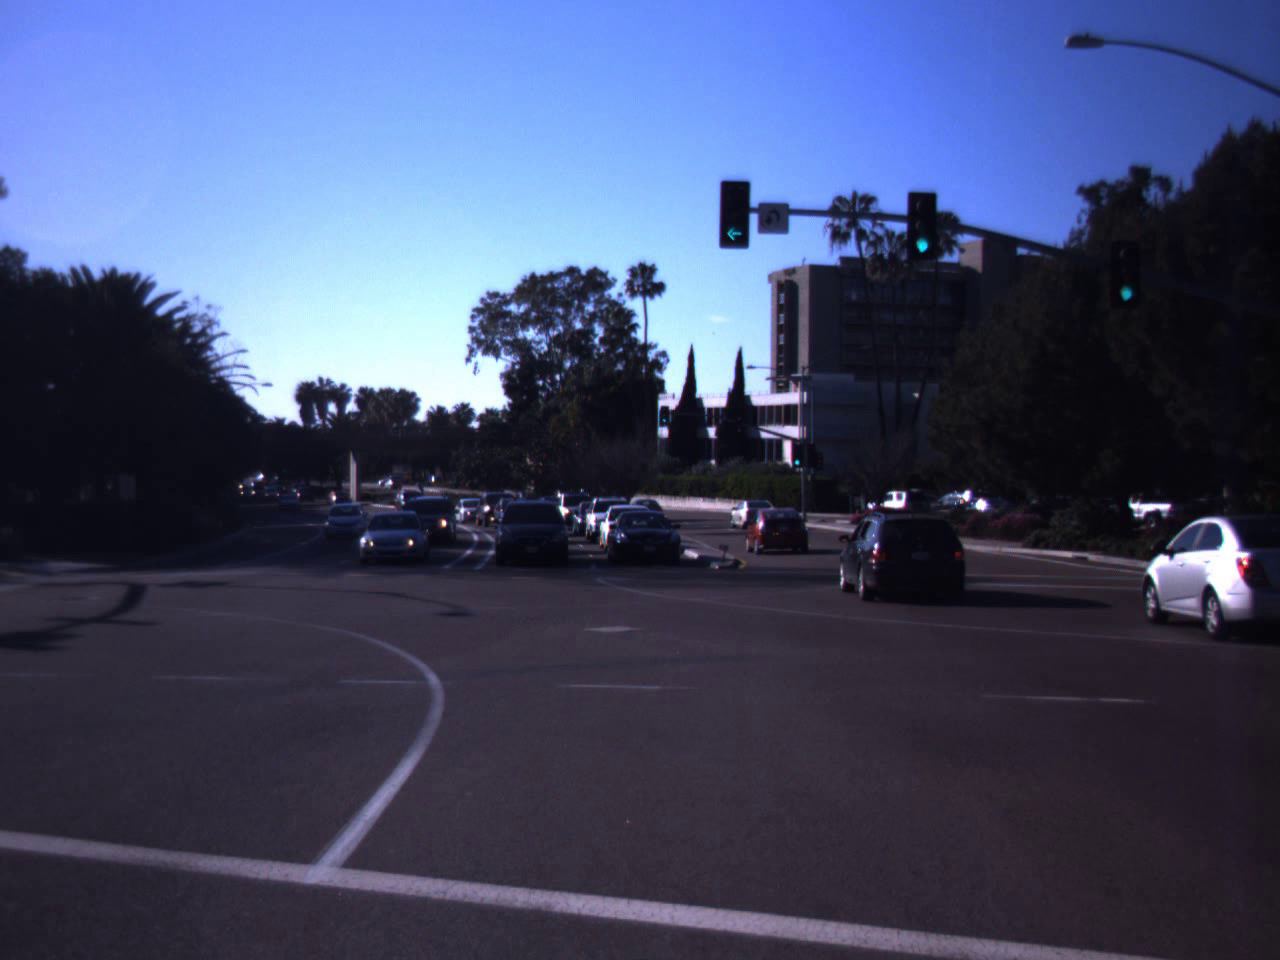go: (705, 170, 759, 250), (1113, 250, 1140, 305), (912, 215, 933, 255)
